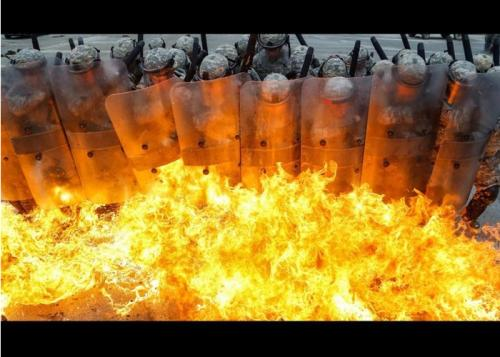fire: (62, 212, 473, 323)
